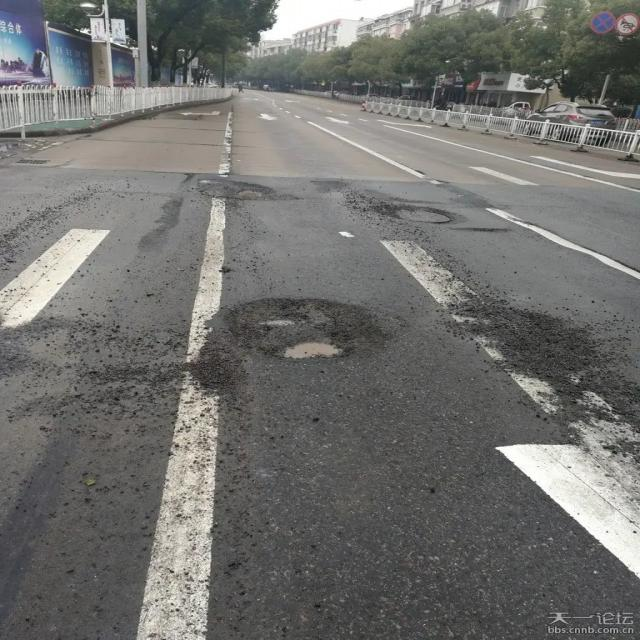Pothole: (204, 311, 362, 368), (347, 205, 465, 229), (196, 178, 276, 202)
